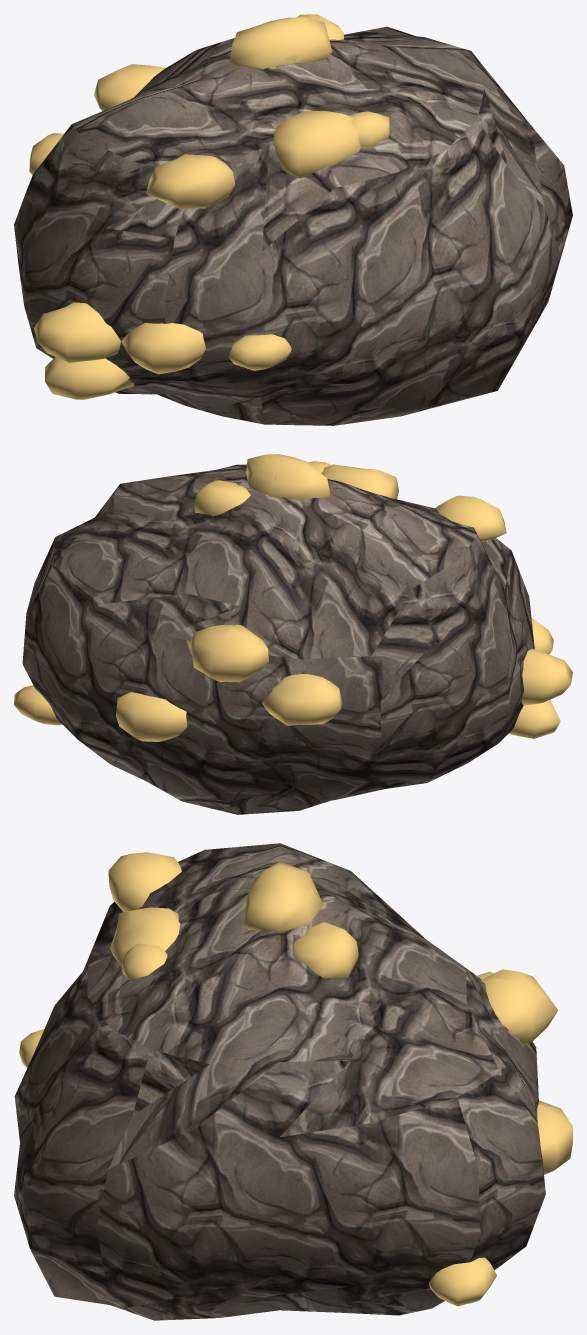
File: ore_gold.glb
3 renders of one model, top to bottom at view 1: azimuth 30°, elevation 25°; view 2: azimuth 150°, elevation 25°; view 3: azimuth 270°, elevation 25°, orthographic. The views are drawn at different scales.
Visible parts, largest first — view 1: ore_gold; view 2: ore_gold; view 3: ore_gold.
Boxes of the visible parts, x1,y1,x2,y2 form: ore_gold: (14,14,572,425); ore_gold: (14,454,572,814); ore_gold: (14,843,572,1320).
Size of the model in its own units: 2.03 by 1.28 by 1.66.
Materials: 2 (1 with a texture image).
